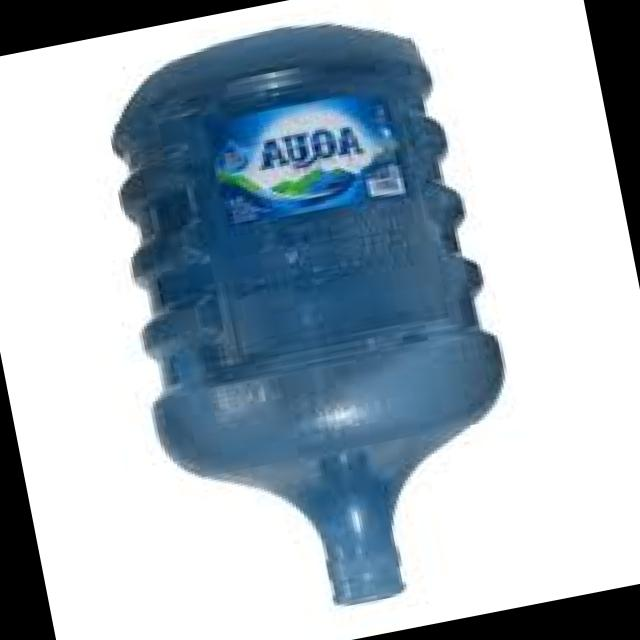Galon: (81, 0, 546, 640)
